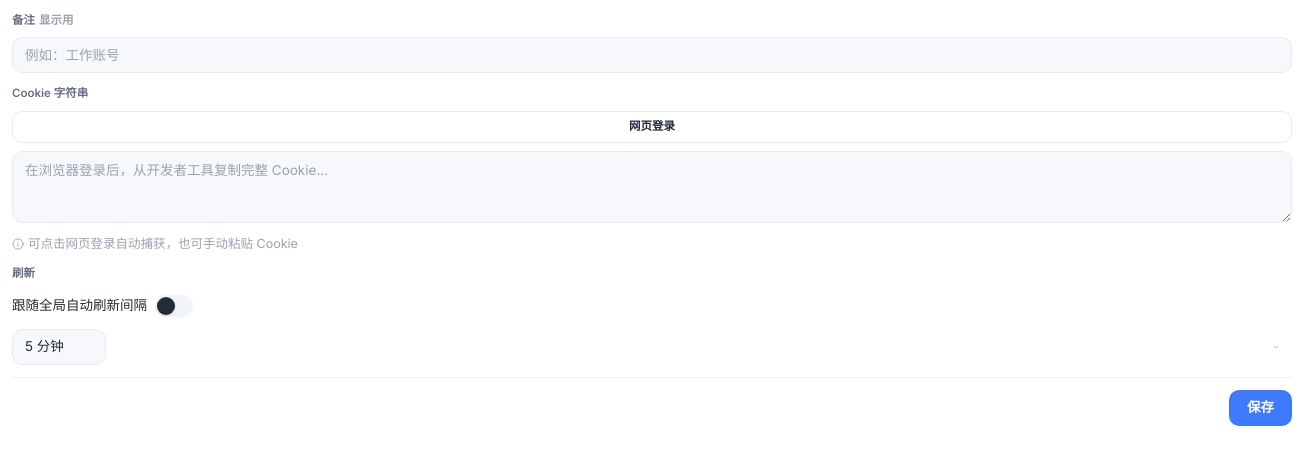
Test: SettingsForm session editing (t157) › shows a readable error when controlled session login cannot start
Click the button with test id "session-login-OAUTH_TOKEN": (652, 126) [12,110,1292,142]
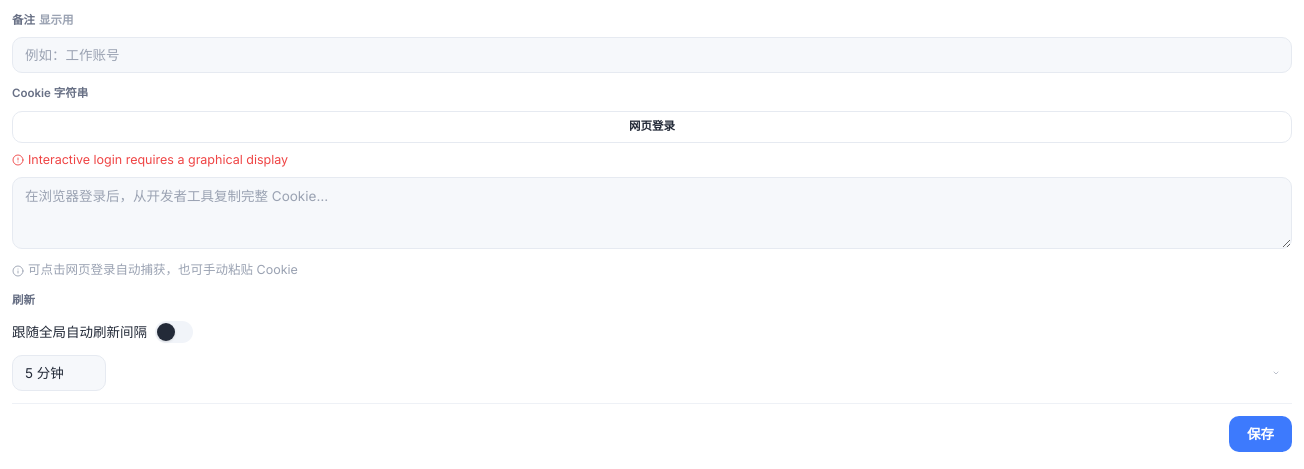
Expected: the message reads "Interactive login requires a graphical display", [28,152,288,166]
